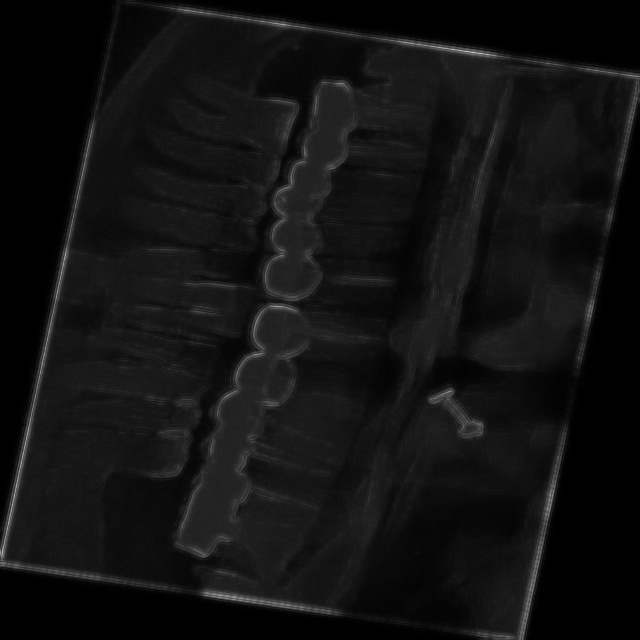Class 0- No endodontic treatment: (233, 238, 419, 382), (187, 391, 373, 492)
Class 1- complete endodontic treatment: (282, 68, 472, 194), (144, 485, 332, 595)
cavity: (34, 257, 244, 491), (99, 67, 307, 269)
